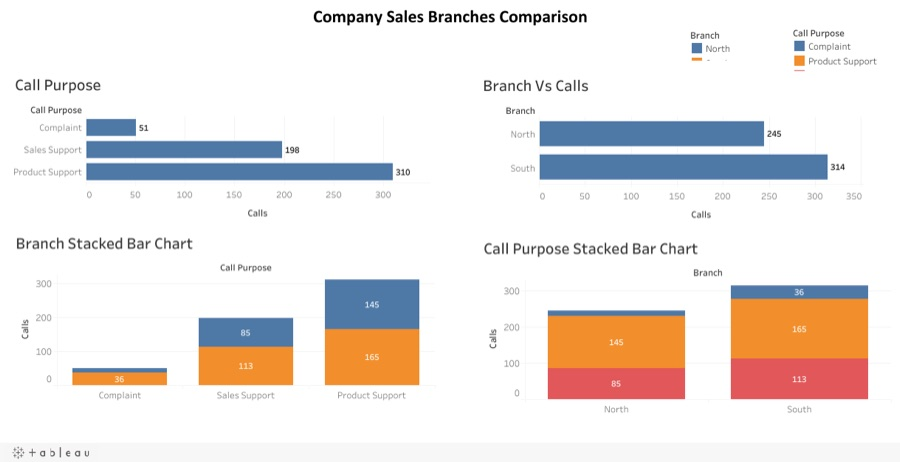

Layout of this report page (visuals, bound fields, positions):
{"tool":"tableau","page":{"name":"Company Sales Branches Comparison","canvas":[1000,1000],"units":"permille","ordinal":0},"visuals":[{"type":"title","box":[6.6,10.6,986.9,49.1]},{"type":"legend","title":"Call Purpose Stacked Bar Chart","param":"[federated.0fvhhaa08bqzon16xou0b1b5afwd].[none:Call Purpose:nk]","box":[879.5,55.8,114.8,103.6]},{"type":"legend","title":"Branch Stacked Bar Chart","param":"[federated.0fvhhaa08bqzon16xou0b1b5afwd].[none:Branch:nk]","box":[765.6,59.8,108.2,77]},{"type":"worksheet","title":"Call Purpose","mark":"Automatic","rows":["Call Purpose"],"cols":["Calls"],"box":[13.1,156.7,463.9,350.6]},{"type":"worksheet","title":"Branch Vs Calls","mark":"Automatic","rows":["Branch"],"cols":["Calls"],"box":[532.8,158,426.2,351.9]},{"type":"worksheet","title":"Branch Stacked Bar Chart","mark":"Automatic","rows":["Calls"],"cols":["Call Purpose"],"box":[13.9,515.3,468.9,421]},{"type":"worksheet","title":"Call Purpose Stacked Bar Chart","mark":"Automatic","rows":["Calls"],"cols":["Branch"],"box":[533.6,527.2,455.7,411.7]}]}

Visuals, with their boxes on the dashboard's canvas, which has no fixed pixel size, in thousandths of its width and height (x1, y1, x2, y2). These are canvas units, not pixel positions in the 900x462 screenshot, which may show the page scaled, cropped or inside an application window:
title: 7/11/994/60
"Call Purpose Stacked Bar Chart" legend: 880/56/994/159
"Branch Stacked Bar Chart" legend: 766/60/874/137
"Call Purpose" worksheet: 13/157/477/507
"Branch Vs Calls" worksheet: 533/158/959/510
"Branch Stacked Bar Chart" worksheet: 14/515/483/936
"Call Purpose Stacked Bar Chart" worksheet: 534/527/989/939
